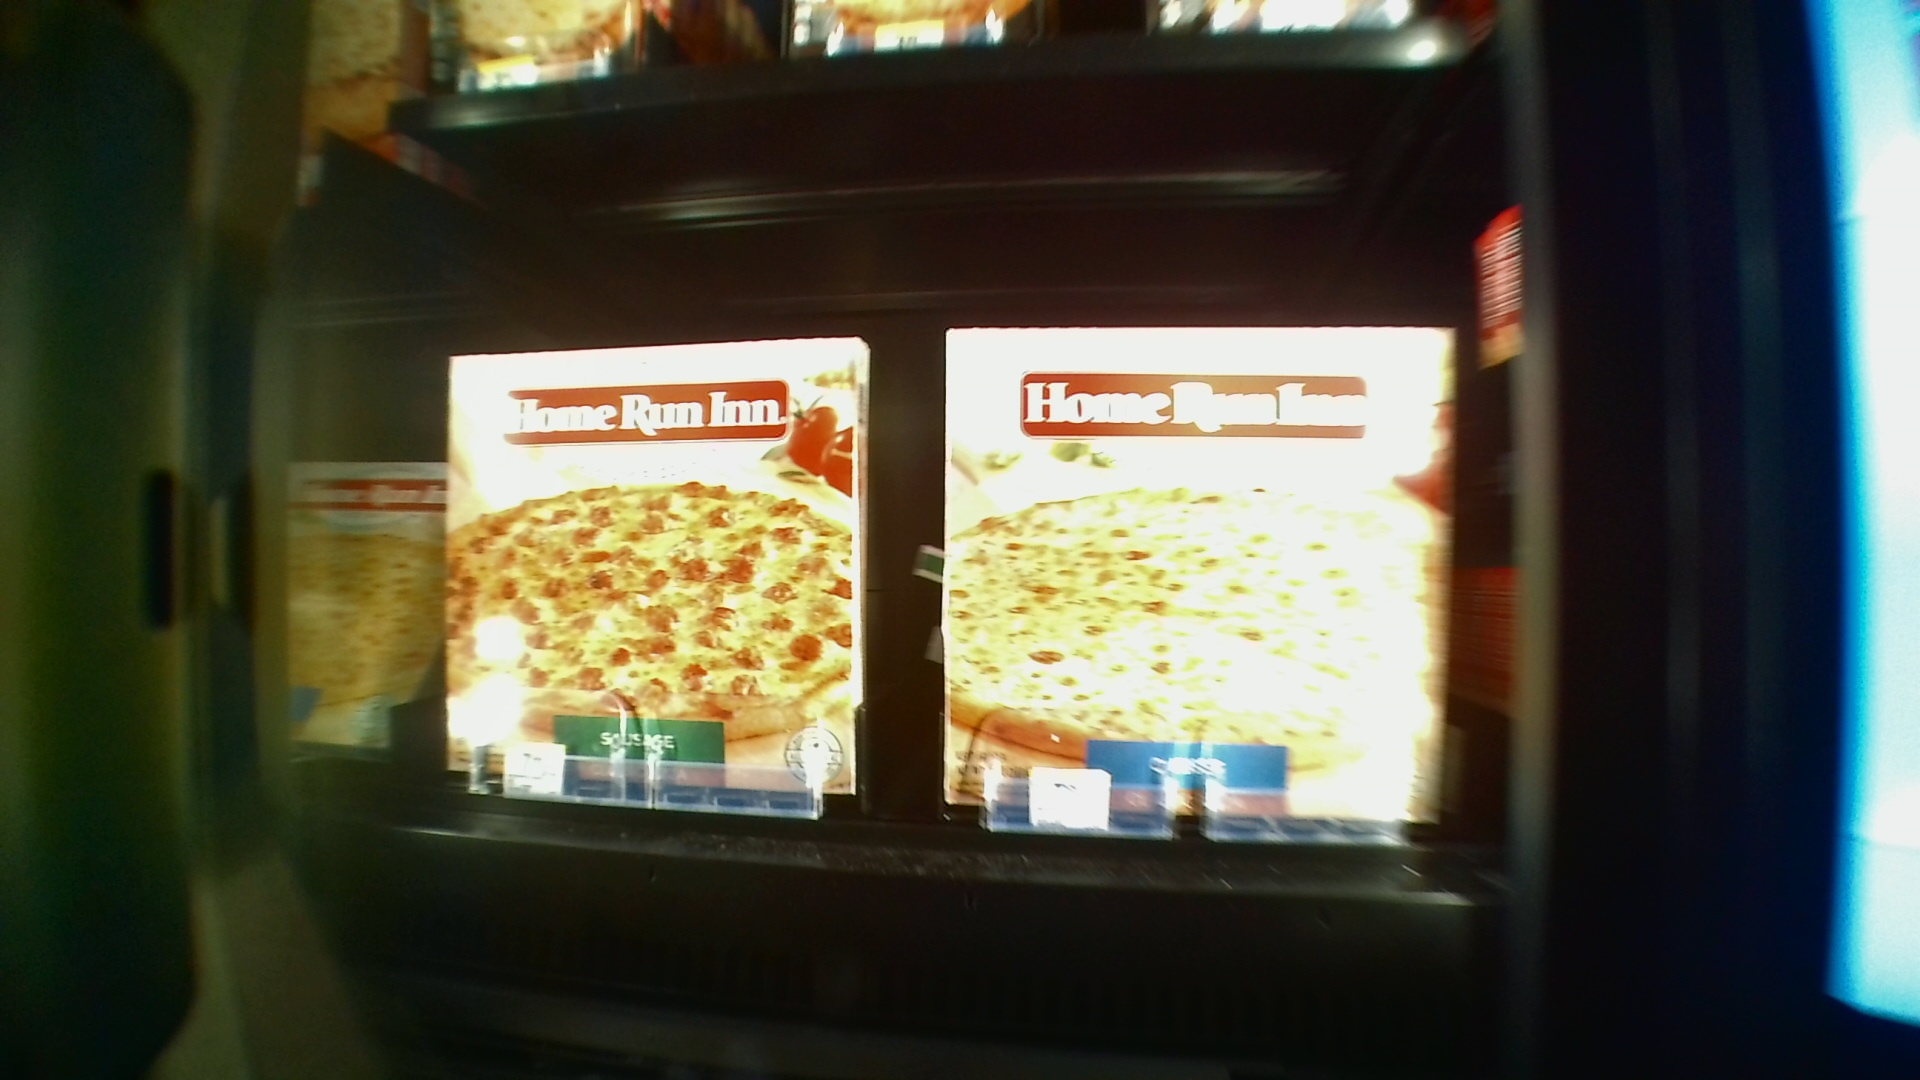shelf: (301, 135, 1505, 1001)
